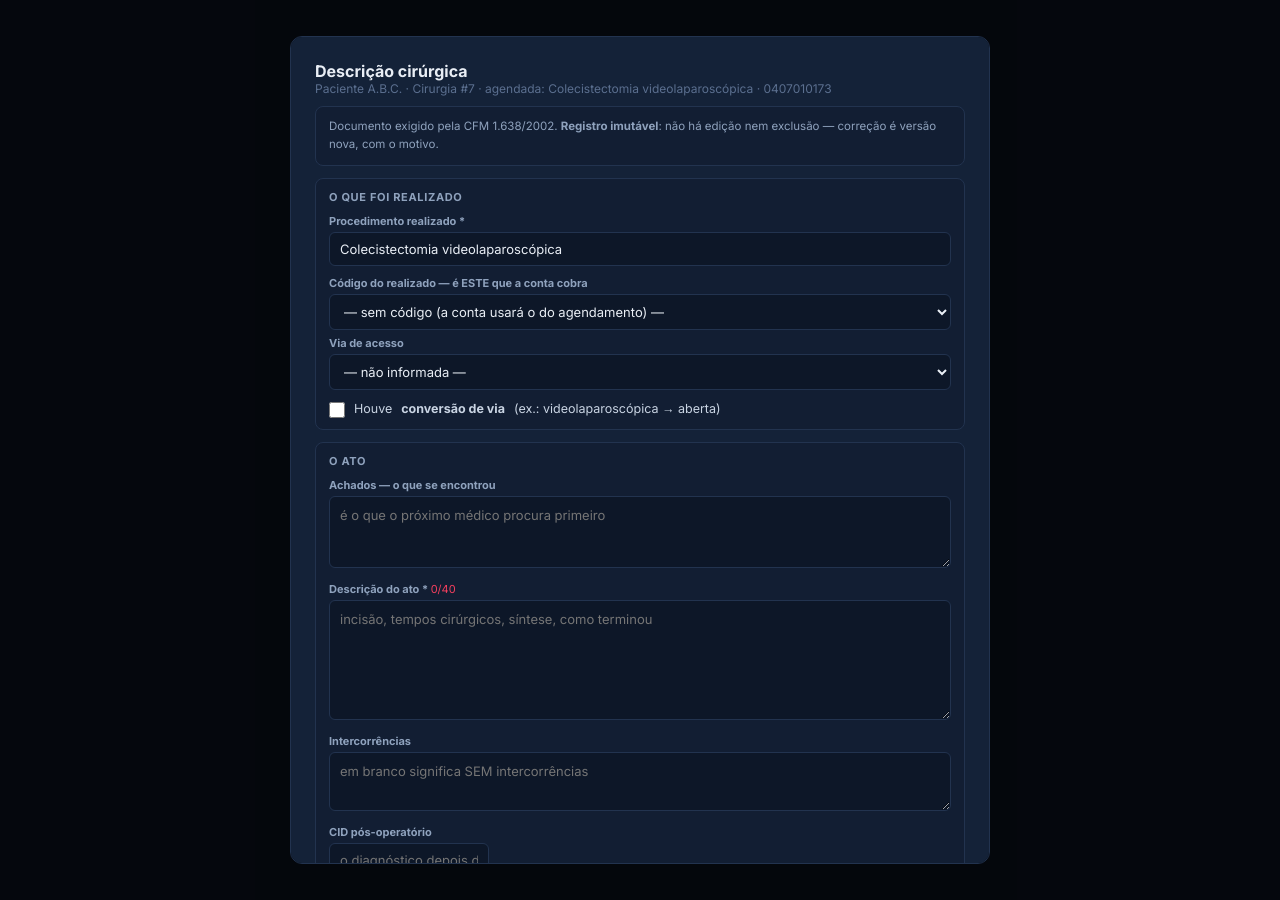
it: 🔴 o modal da descrição cirúrgica › 🔴 código diferente do agendado avisa, na hora, que a conta vai mudar
Select "0407010050 — Colecistectomia" in the 1st dropdown: (640, 312) top-left (329, 294), bottom-right (951, 330)
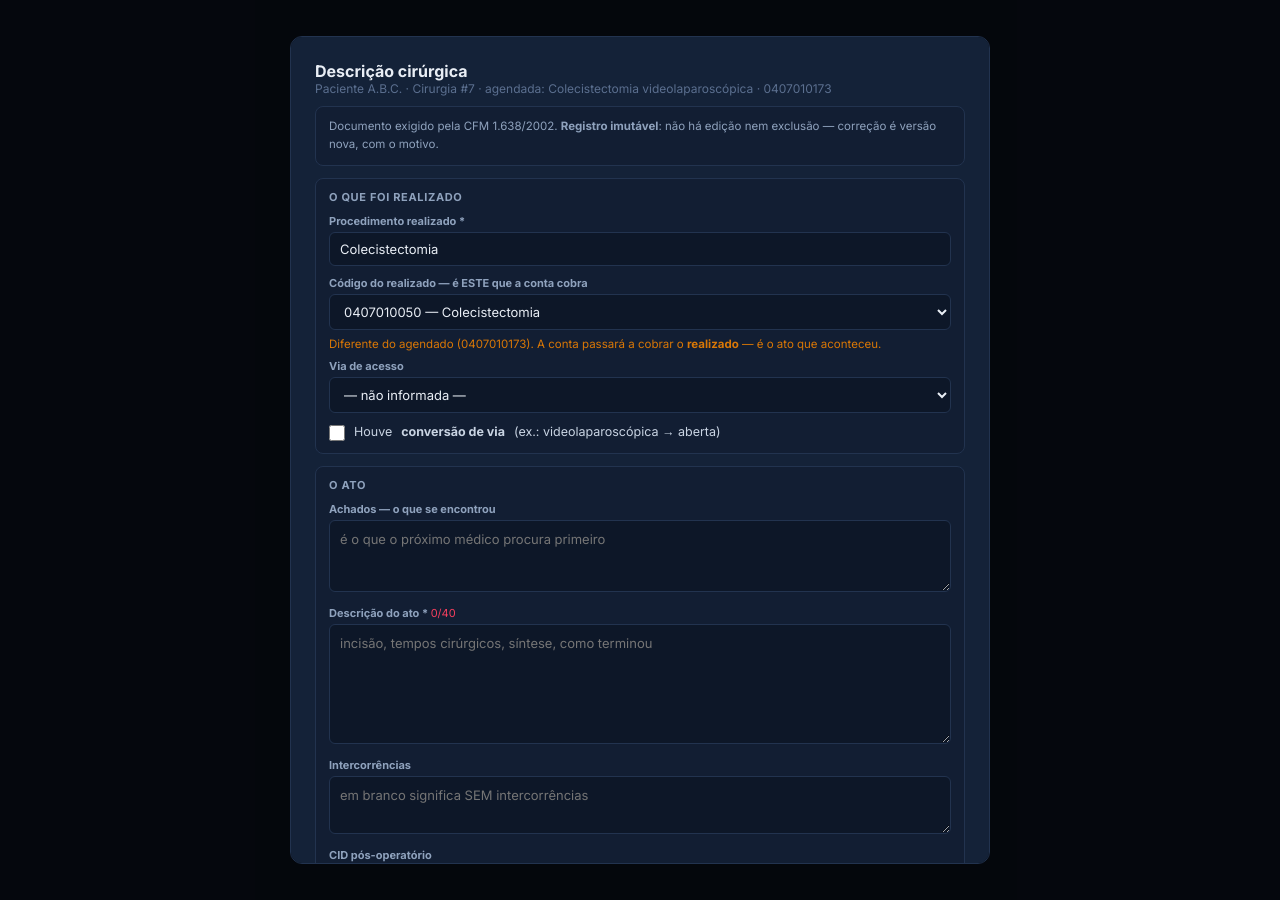
Result: the text "Diferente do agendado (0407010173)" is shown at top-left (329, 336), bottom-right (951, 353)
